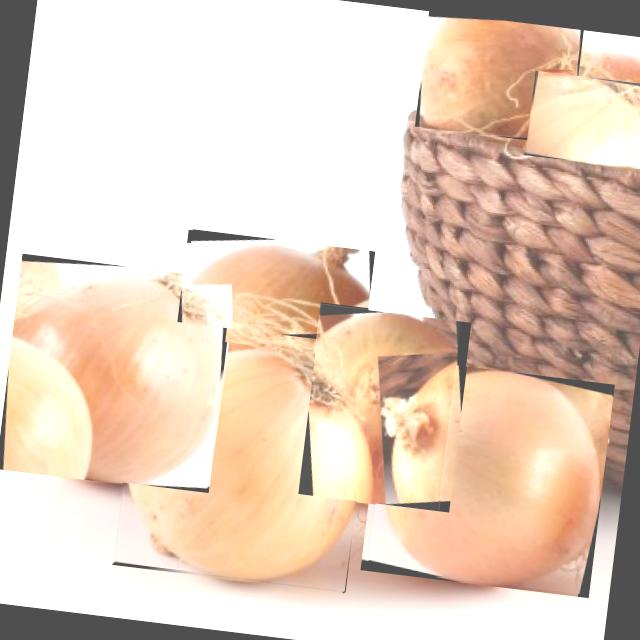healthy: (125, 350, 362, 580), (380, 371, 598, 584), (12, 271, 219, 483), (314, 313, 457, 504), (420, 17, 579, 137), (182, 245, 369, 331), (526, 75, 640, 166)
